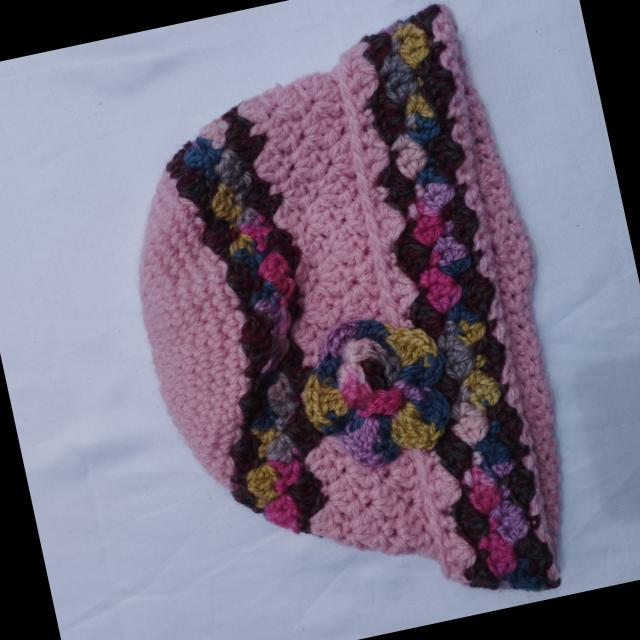Gorro: (90, 0, 602, 640)
